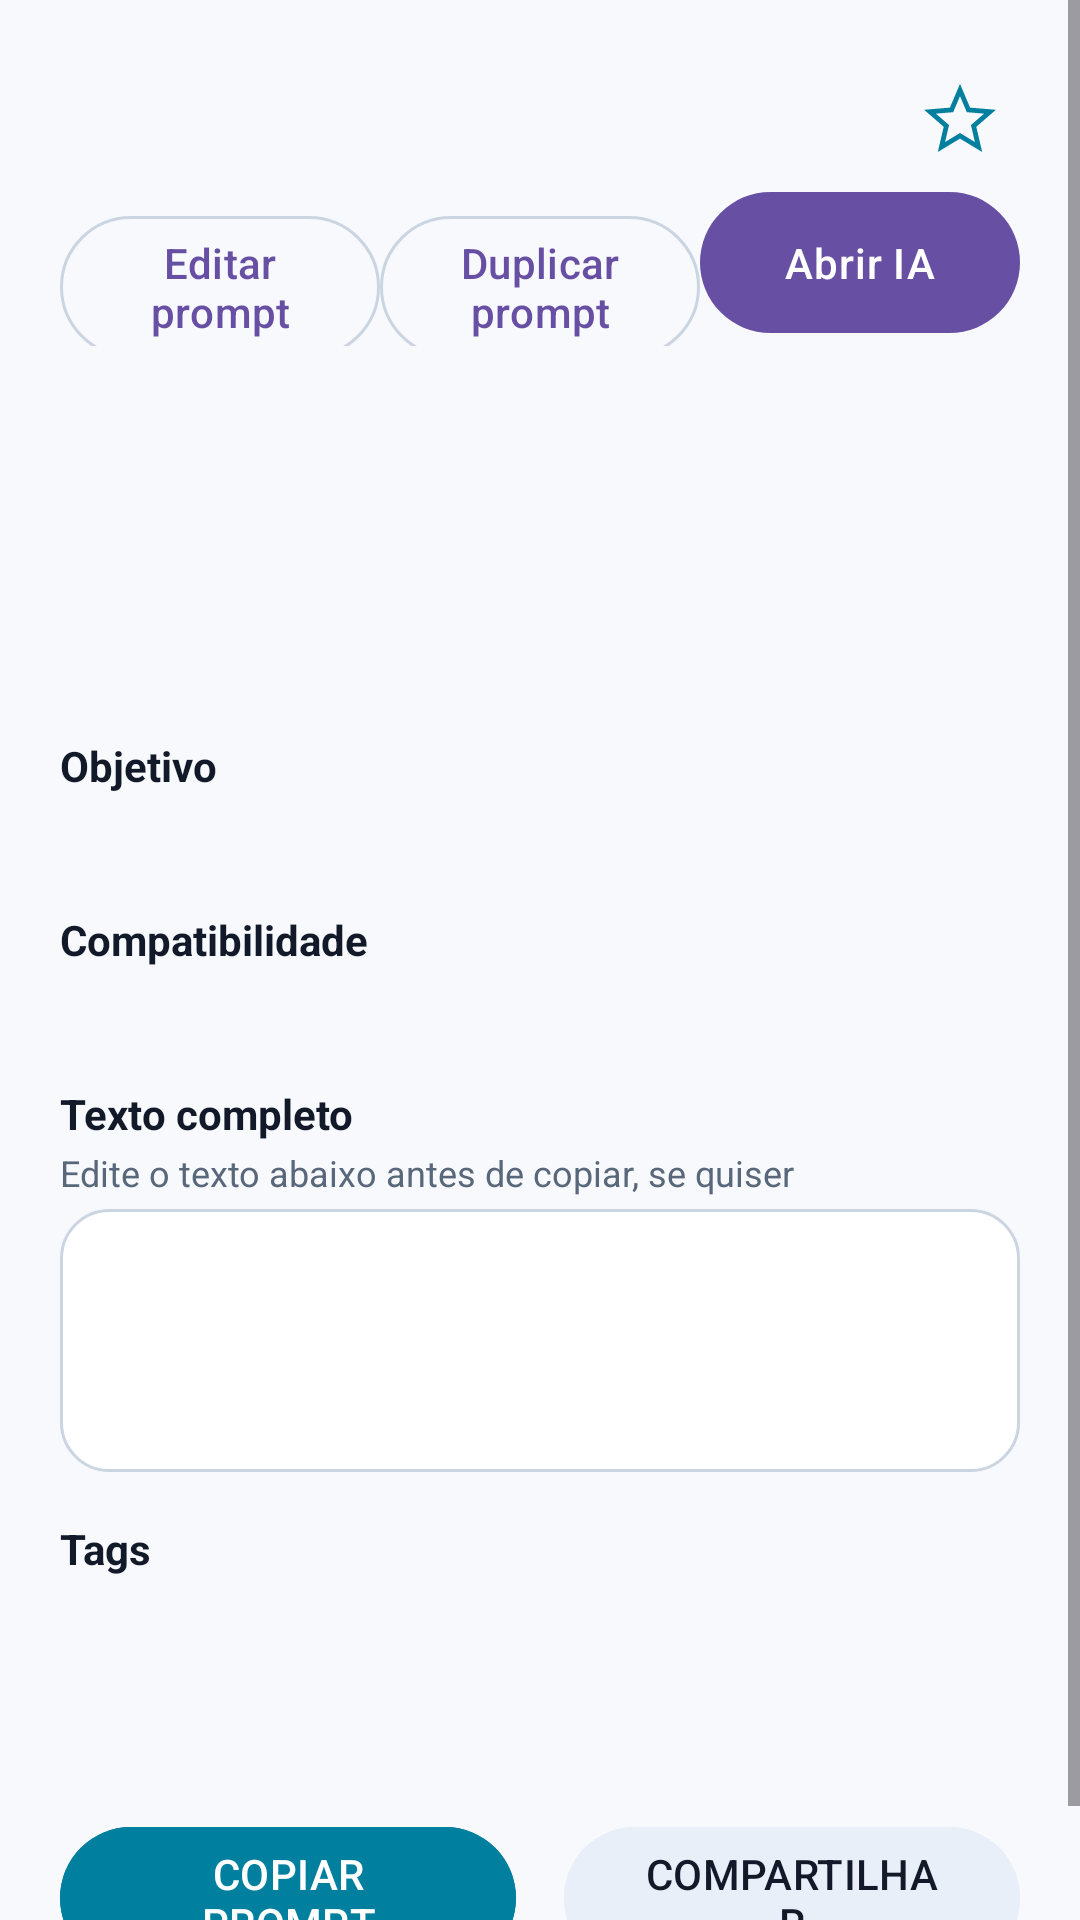

Screen size 1080w x 1920h. Icon name, then its center in pixels as (x=x, y=y):
Favoritar: (x=960, y=118)
